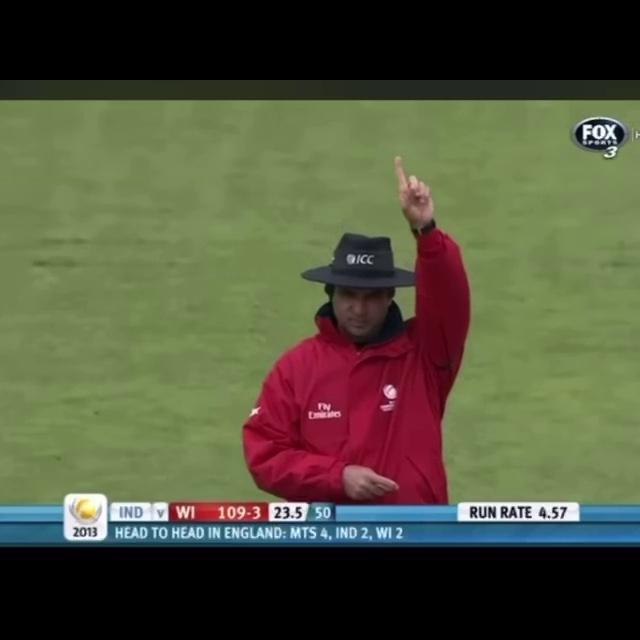umpire: (224, 150, 551, 507)
